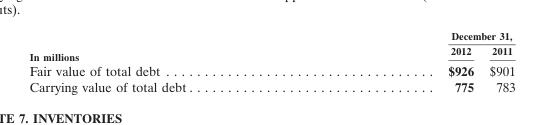table: (28, 29, 514, 93)
table column: (28, 29, 319, 93), (319, 29, 481, 93), (481, 29, 514, 93)
table column header: (28, 29, 514, 62)
table row: (28, 42, 514, 62), (28, 62, 514, 78), (28, 78, 514, 93), (28, 29, 514, 42)
table spanning cell: (28, 29, 319, 62), (319, 29, 514, 42)
